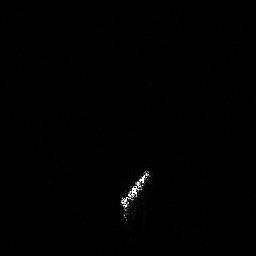ship: (119, 167, 151, 224)
